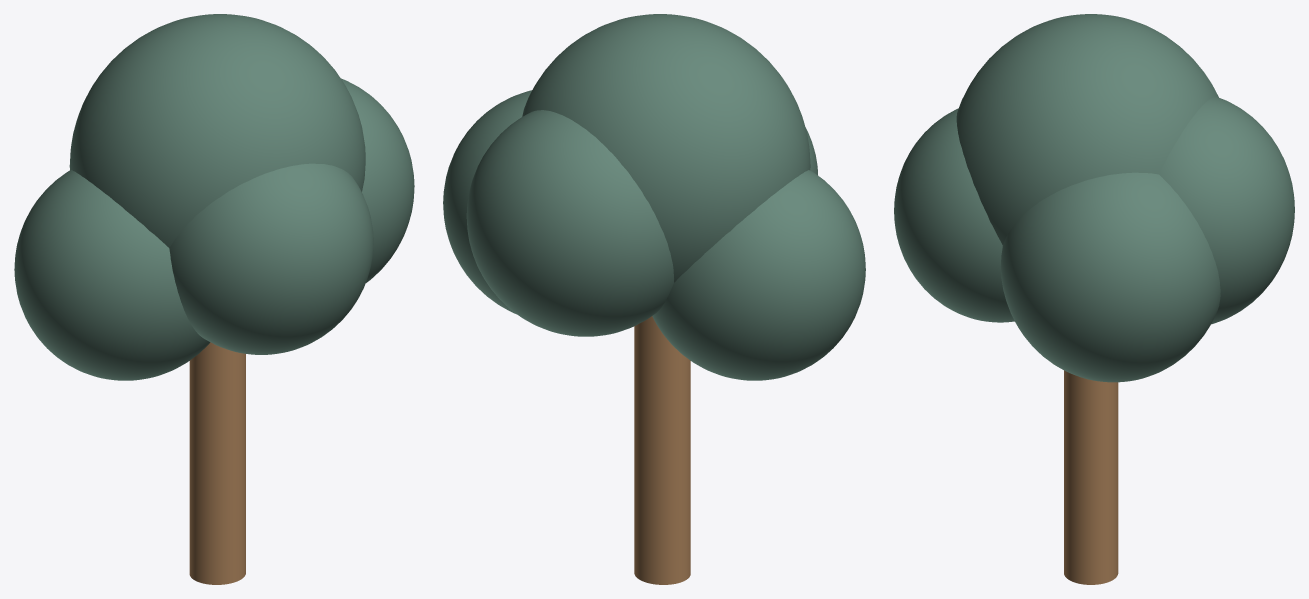
3 views of the same model, side by side, from view 1: azimuth 30°, elevation 25°; view 2: azimuth 150°, elevation 25°; view 3: azimuth 270°, elevation 25° (orthographic).
Visible parts, largest first — view 1: 树冠, 树冠.003, 树冠.001, 树干, 树冠.002; view 2: 树冠, 树冠.004, 树冠.001, 树干, 树冠.002; view 3: 树冠, 树冠.002, 树冠.004, 树冠.003, 树干.
Part boxes in pixels (x1=…): 树冠: x1=69, y1=14, x2=365, y2=247; 树冠.003: x1=169, y1=163, x2=373, y2=354; 树冠.001: x1=14, y1=170, x2=210, y2=380; 树干: x1=189, y1=342, x2=245, y2=584; 树冠.002: x1=341, y1=78, x2=414, y2=282; 树冠: x1=522, y1=14, x2=810, y2=282; 树冠.004: x1=466, y1=110, x2=673, y2=336; 树冠.001: x1=652, y1=170, x2=865, y2=380; 树干: x1=634, y1=316, x2=690, y2=584; 树冠.002: x1=443, y1=90, x2=532, y2=314; 树冠: x1=956, y1=14, x2=1218, y2=245; 树冠.002: x1=1000, y1=172, x2=1220, y2=382; 树冠.004: x1=1159, y1=97, x2=1294, y2=324; 树冠.003: x1=894, y1=108, x2=1014, y2=322; 树干: x1=1064, y1=370, x2=1118, y2=584.
Size of the model in its own units: 2.2 by 3 by 2.
